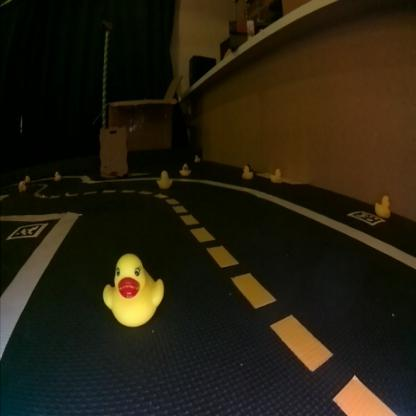Duckie: (104, 252, 164, 326), (376, 195, 392, 217), (157, 170, 173, 187), (272, 168, 284, 182), (180, 163, 191, 175), (243, 164, 252, 178), (56, 170, 62, 178), (20, 180, 26, 188), (195, 154, 201, 161)
QR code: (10, 223, 48, 239), (350, 210, 384, 224)
